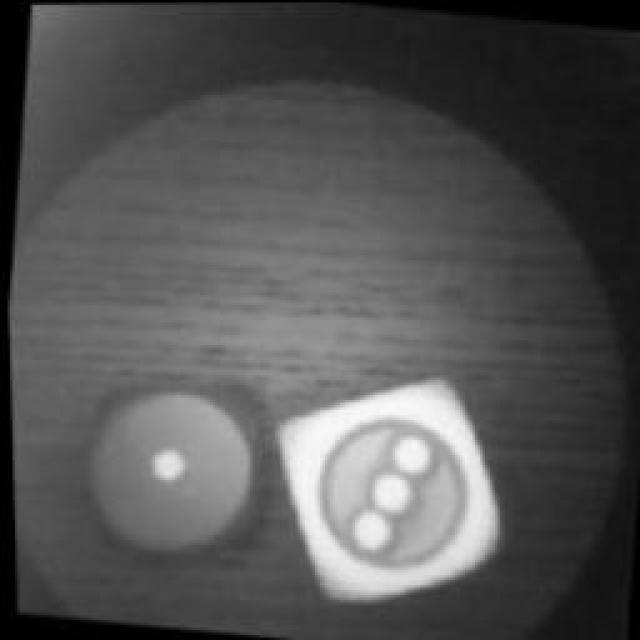dice_1: (60, 363, 280, 575)
dice_3: (249, 354, 519, 631)
